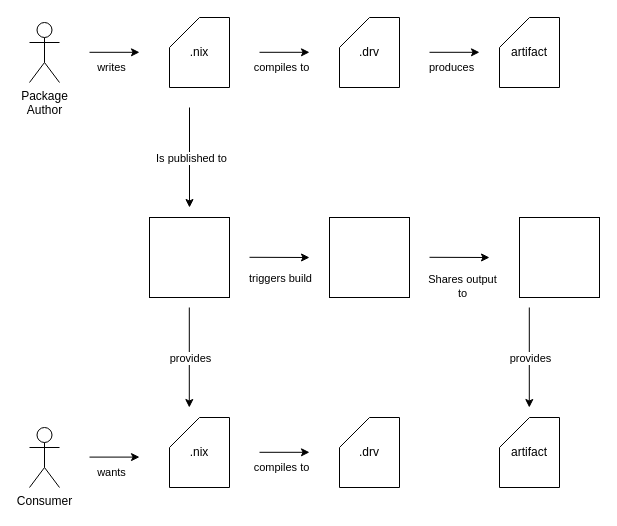
Image size: 617x526. Some labels were removed from this diagram. The shapes that lost their labels are listed below. From the top down, each one's centre as x and y in pixels, then its label:
(189,257): Nixpkgs
(369,257): Hydra
(559,257): Official Cache
